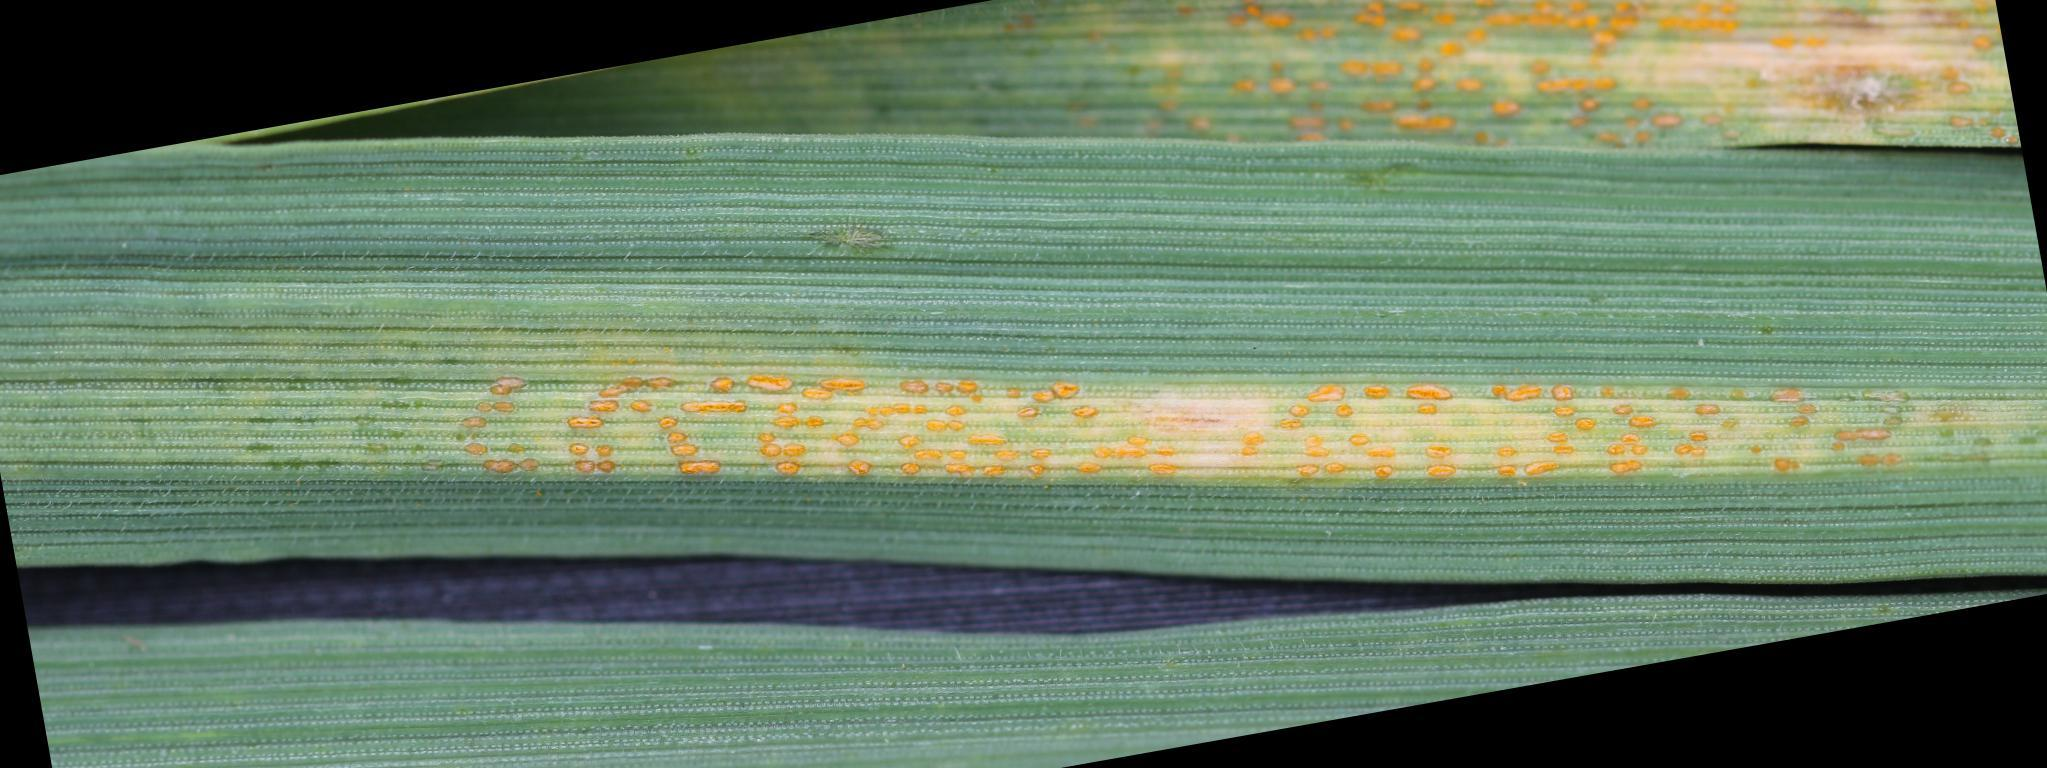Wheat: (527, 355, 1909, 488), (1149, 0, 1764, 145)
